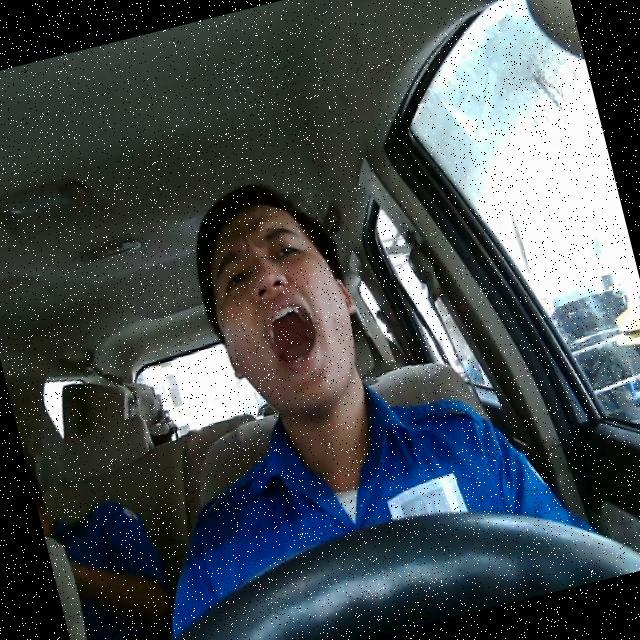yarning: (186, 184, 380, 432)
